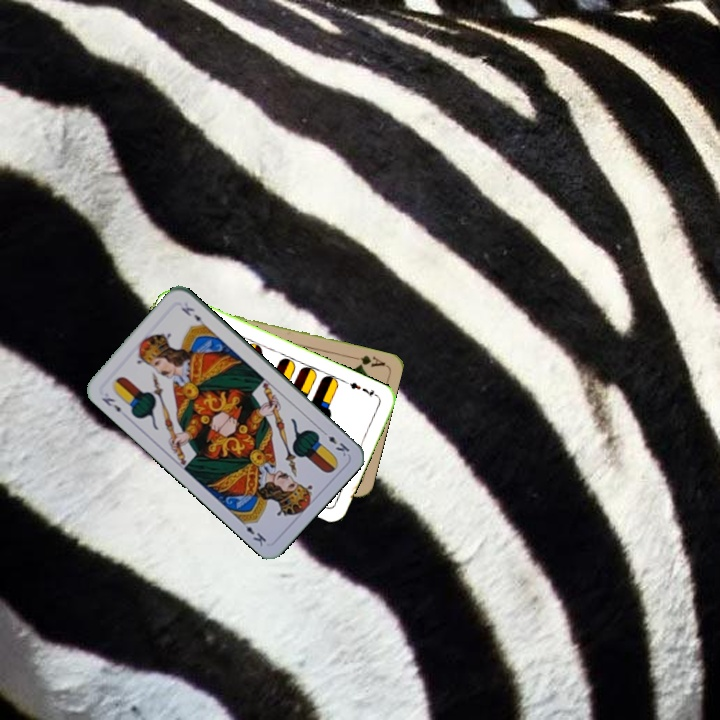E7: (342, 378, 381, 400)
EK: (317, 426, 352, 459), (98, 393, 123, 415)
GA: (347, 351, 388, 370)
